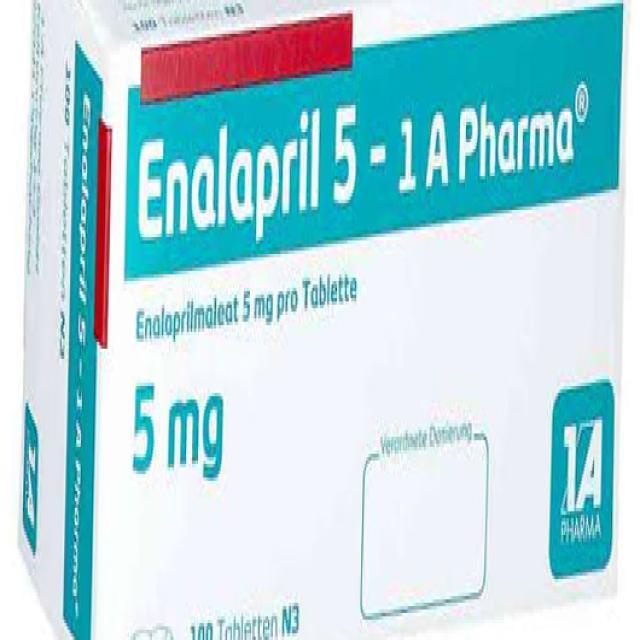drug-name: (134, 68, 590, 272)
